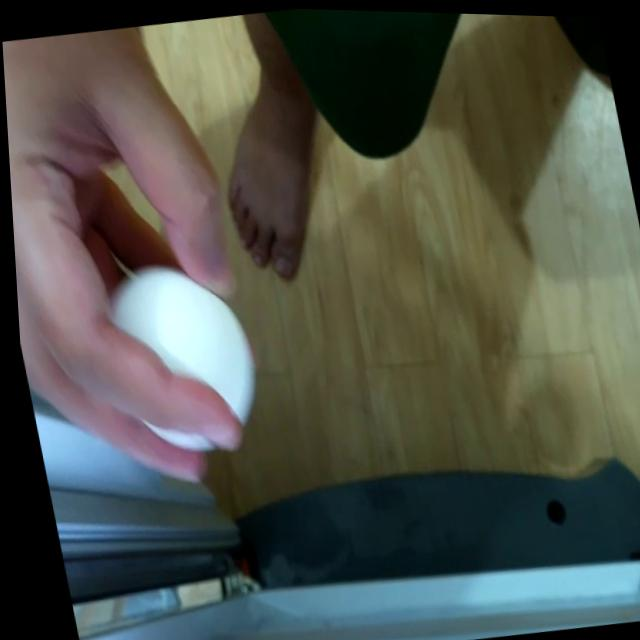egg: (84, 248, 263, 443)
